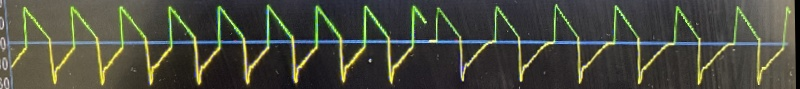normal_flow: (444, 0, 791, 88)
peepi: (4, 0, 409, 89)
